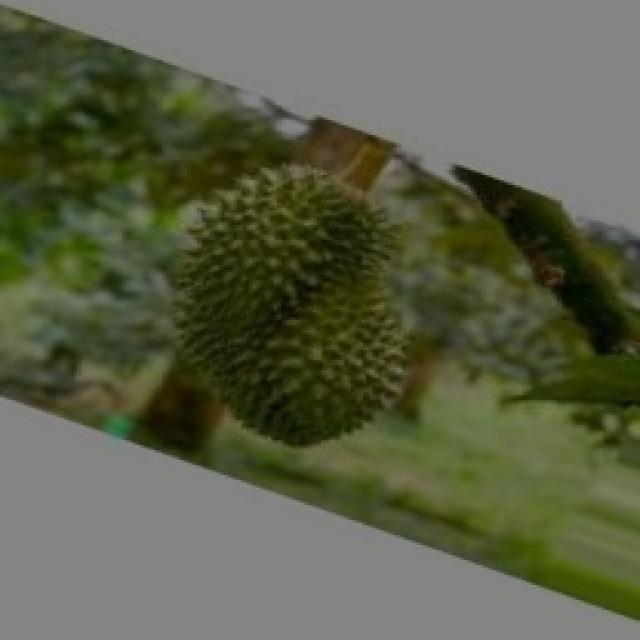fruit: (110, 122, 462, 488)
